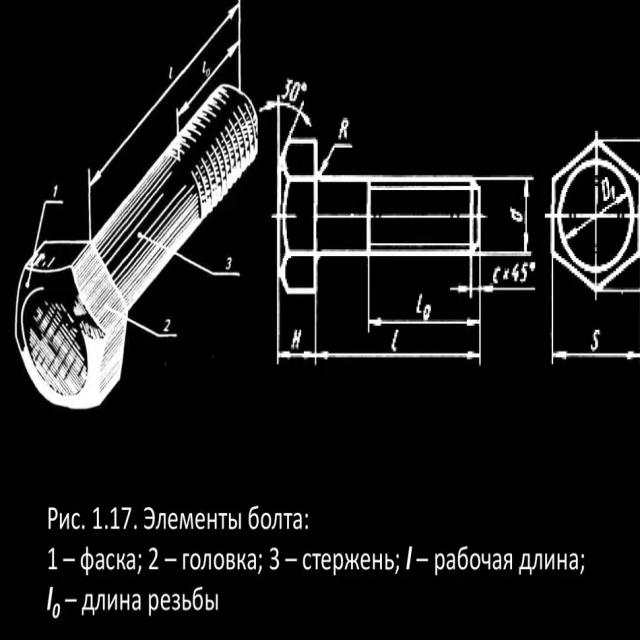marking_line: (318, 350, 480, 362), (374, 314, 479, 329), (553, 347, 640, 364), (482, 283, 536, 295), (521, 181, 529, 249), (280, 350, 315, 360), (447, 285, 470, 297)
numeric: (282, 76, 301, 103), (512, 262, 529, 282), (220, 254, 236, 273), (591, 327, 601, 352), (167, 60, 176, 82), (160, 318, 171, 334), (50, 184, 61, 199)
special_symbol: (261, 98, 314, 141)
